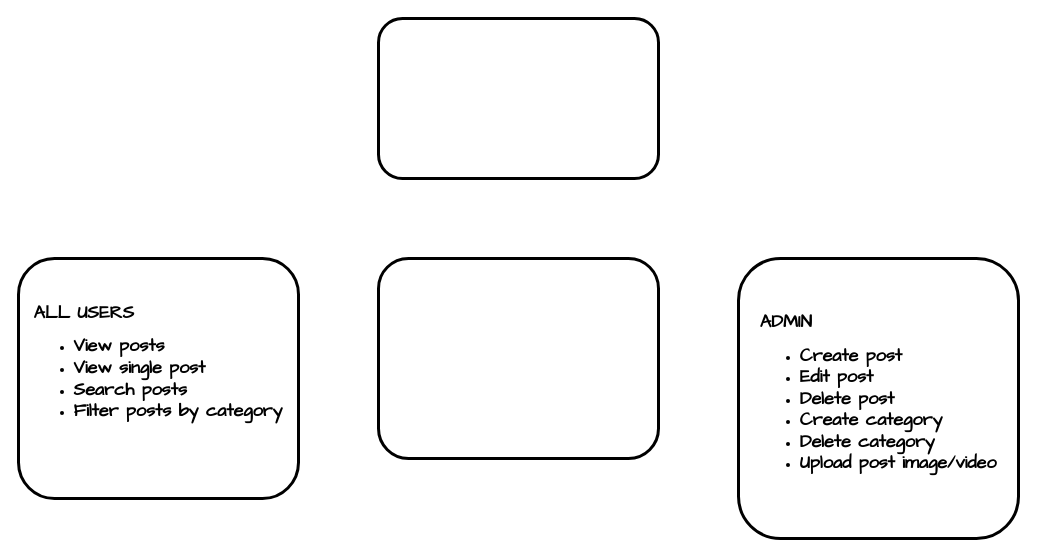
This 1037x557 diagram has some shape labels left out. The centre of each missing label's shape, as x and y in pixels:
ACTORS 1. Visitors 2. Registered users 3. Admin: [518,98]
REGISTERED USERS Register Login Add comments Log out: [518,358]
